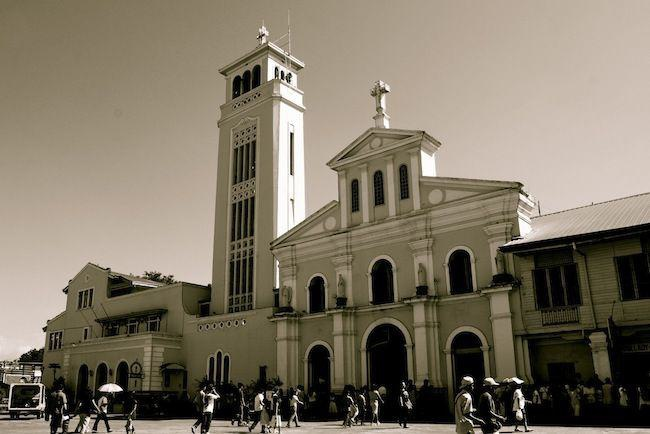manaoag_church_manaoag_pangasinan: (203, 8, 531, 399)
